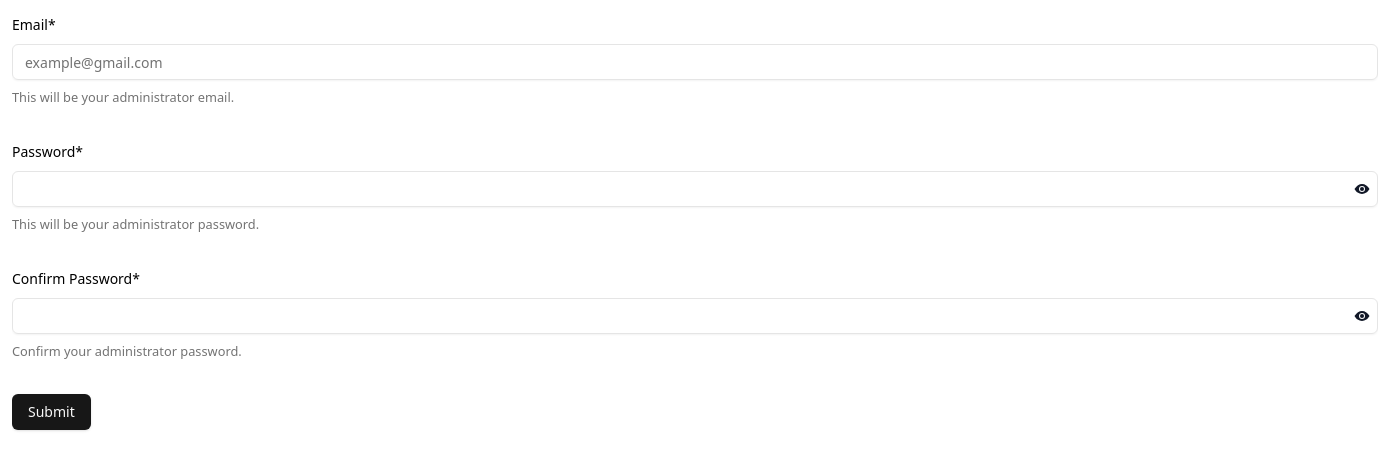
Test case: AdminForm › throws error if email is not valid
In the field with placeholder "example@gmail.com": [695, 62] box x1=12 y1=44 x2=1378 y2=80, type "test"
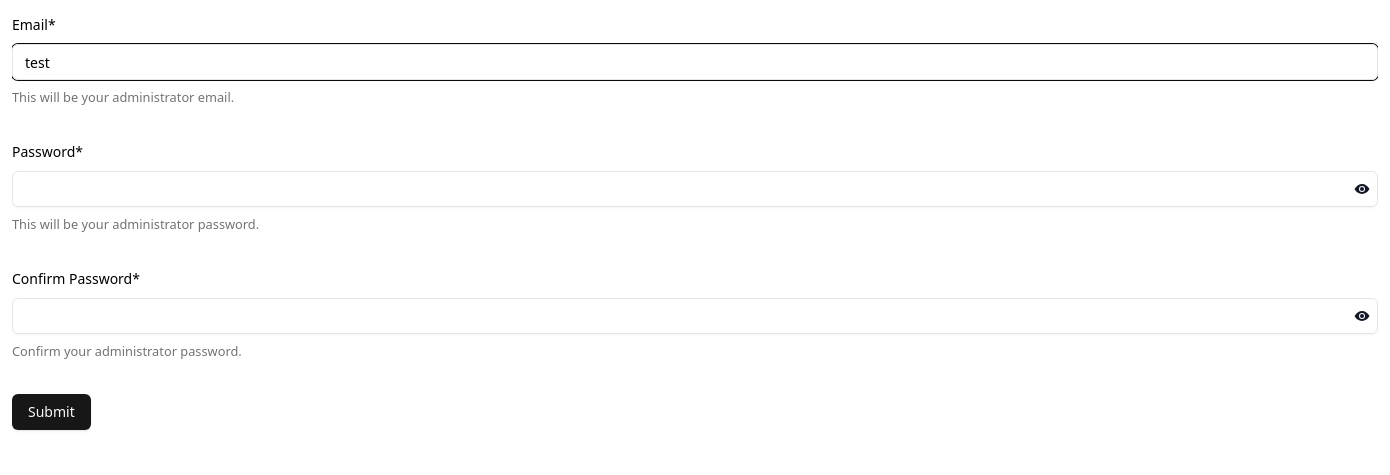
In the password field labelled "Password*": [695, 189] box x1=12 y1=171 x2=1378 y2=207, type "password"
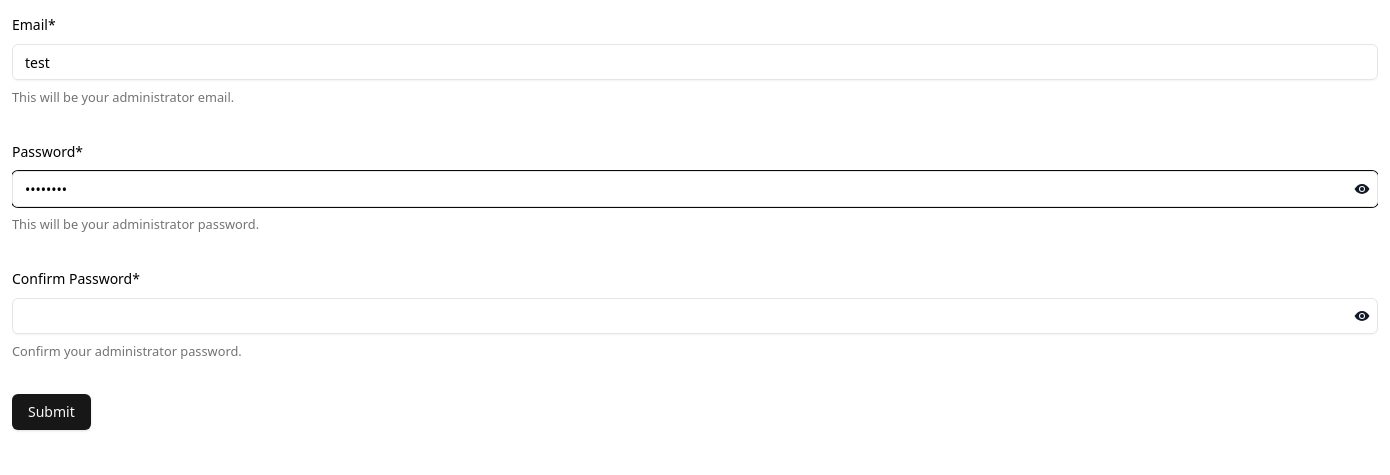
In the password field labelled "Confirm Password*": [695, 316] box x1=12 y1=298 x2=1378 y2=334, type "password"
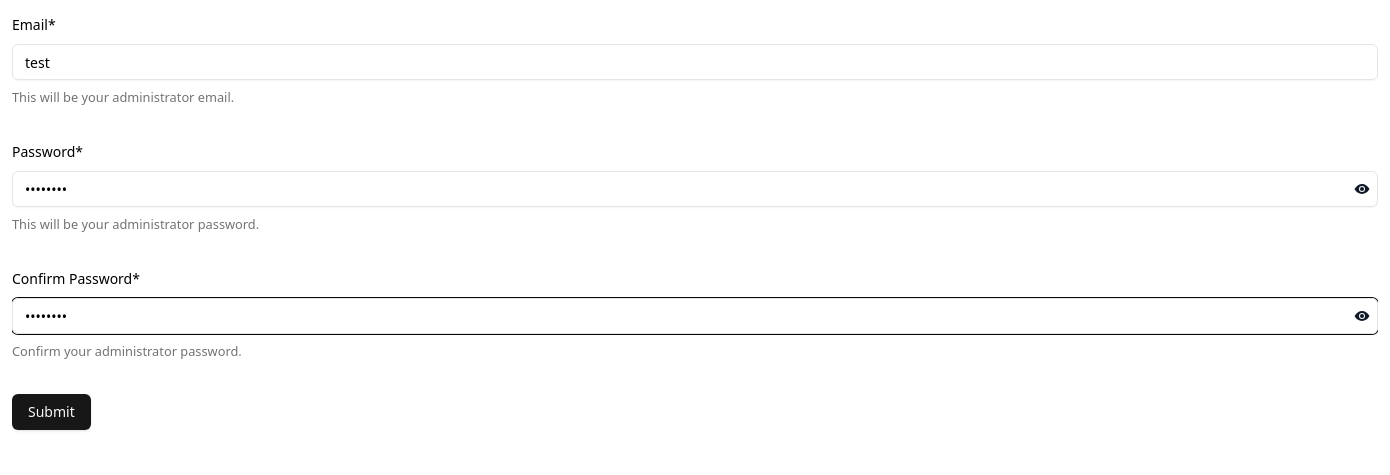
Click the button "Submit": [51, 412] box x1=12 y1=394 x2=91 y2=430
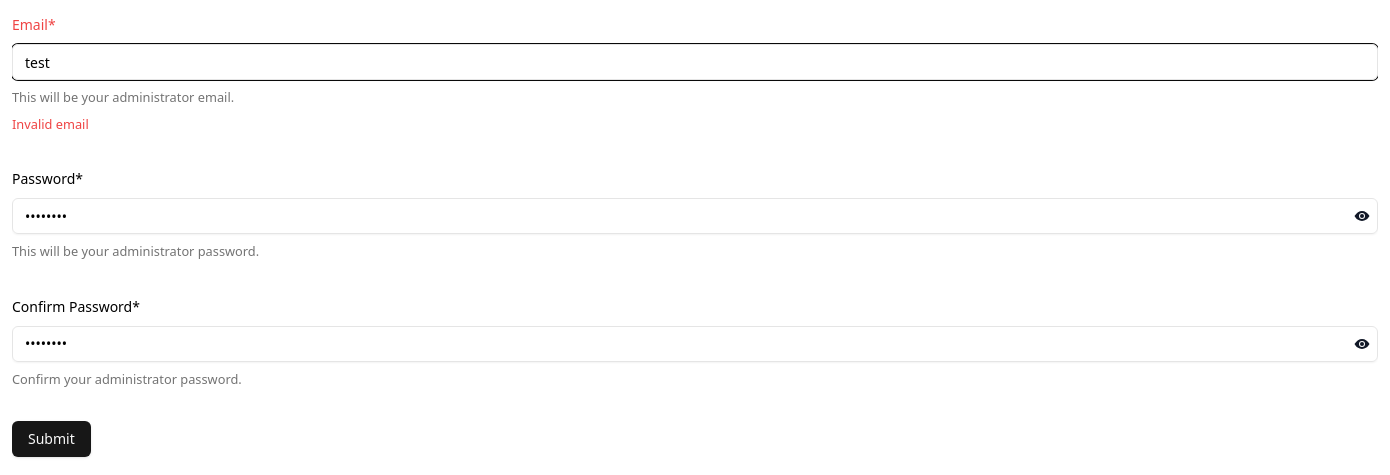
Result: the text "Invalid email" is shown at x1=12 y1=115 x2=89 y2=133
